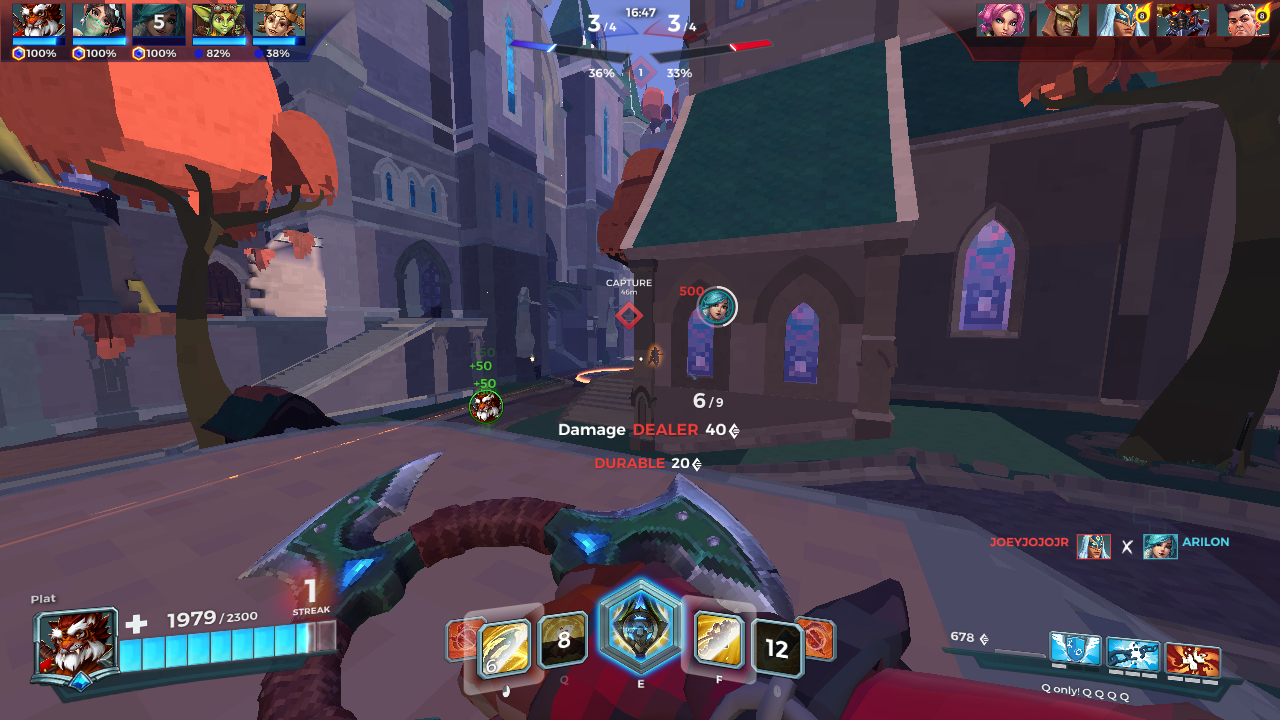model: (641, 342, 668, 370)
